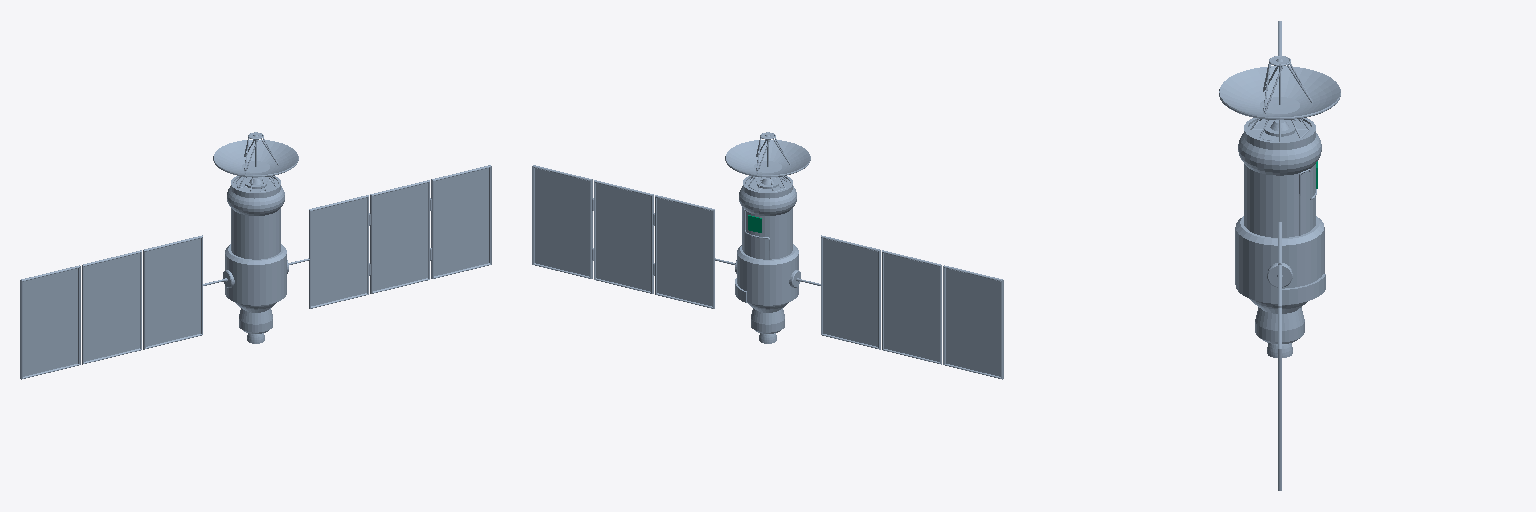
The robot description file, URDF, robot "satellite_4_starlink_preview":
<?xml version='1.0' encoding='utf-8'?>
<robot name="satellite_4_starlink_preview">
  <link name="base_link">
    <visual>
      <geometry>
        <mesh filename="satellite.stl" scale="1 1 1" />
      </geometry>
      <material name="satellite_body_color">
        <color rgba="0.65 0.72 0.8 1" />
      </material>
    </visual>
    <collision>
      <geometry>
        <mesh filename="satellite.stl" scale="1 1 1" />
      </geometry>
    </collision>
  </link>
  <link name="satellite_4_mount" />
  <joint name="satellite_mount_fixed" type="fixed">
    <parent link="base_link" />
    <child link="satellite_4_mount" />
    <origin xyz="0 0.5000001517447981 0.8" rpy="-1.5707963267948966 0.0 0.0" />
  </joint>
  <link name="concept_mount_pad">
    <visual>
      <origin xyz="0 0 0.015" />
      <geometry>
        <box size=".32 .32 .03" />
      </geometry>
    </visual>
    <collision>
      <origin xyz="0 0 0.015" />
      <geometry>
        <box size=".32 .32 .03" />
      </geometry>
    </collision>
  </link>
  <joint name="pad_fixed" type="fixed">
    <parent link="satellite_4_mount" />
    <child link="concept_mount_pad" />
    <origin xyz="0 0 0" rpy="0 0 0" />
  </joint>
</robot>

--- What the picture shows (computed from the rendered views, not written in the file) ---
The picture shows the robot from 3 angles, left to right: view 1: azimuth 30°, elevation 25°; view 2: azimuth 150°, elevation 25°; view 3: azimuth 270°, elevation 25°; orthographic projection.
Model satellite_4_starlink_preview with 3 links and 2 joints (2 fixed), rooted at base_link, posed every joint at zero.
Visible links, largest first — view 1: base_link; view 2: base_link; view 3: base_link.
Boxes of the visible links, x1=… form: base_link: x1=20, y1=132, x2=491, y2=379; base_link: x1=532, y1=132, x2=1003, y2=379; base_link: x1=1219, y1=21, x2=1340, y2=490.
Size in the robot's own frame: 10.73 by 1.69 by 4.48 metres.
Meshes: 1 distinct files referenced, 1 mesh visuals loaded (1 binary STL).
